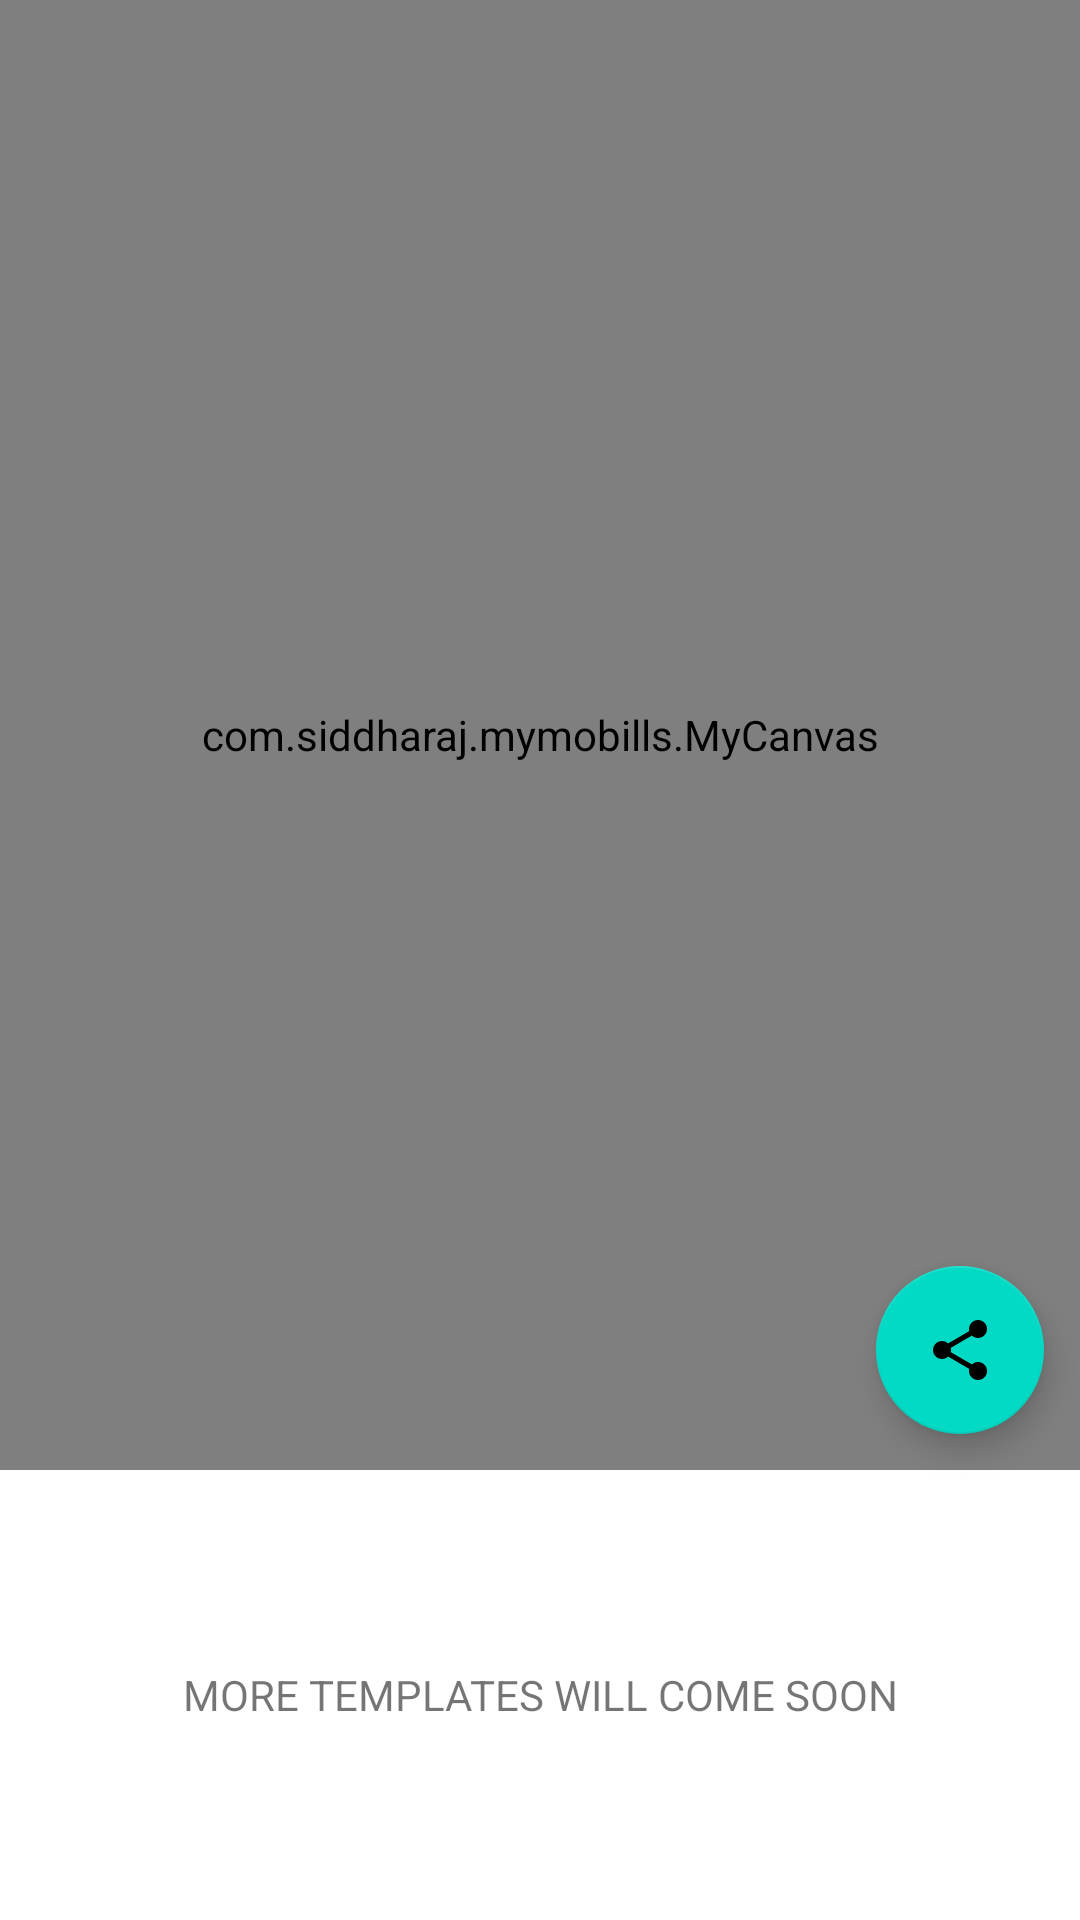

Screen size 1080×1920. Icon name, then its box in pixels as box=[x1, y1, x2, y2]:
share: box=[876, 1266, 1044, 1434]
